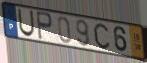0: (56, 15, 72, 44)
6: (113, 25, 128, 53)
9: (75, 19, 91, 48)
C: (92, 22, 111, 50)
P: (35, 10, 54, 42)
U: (17, 7, 36, 38)
